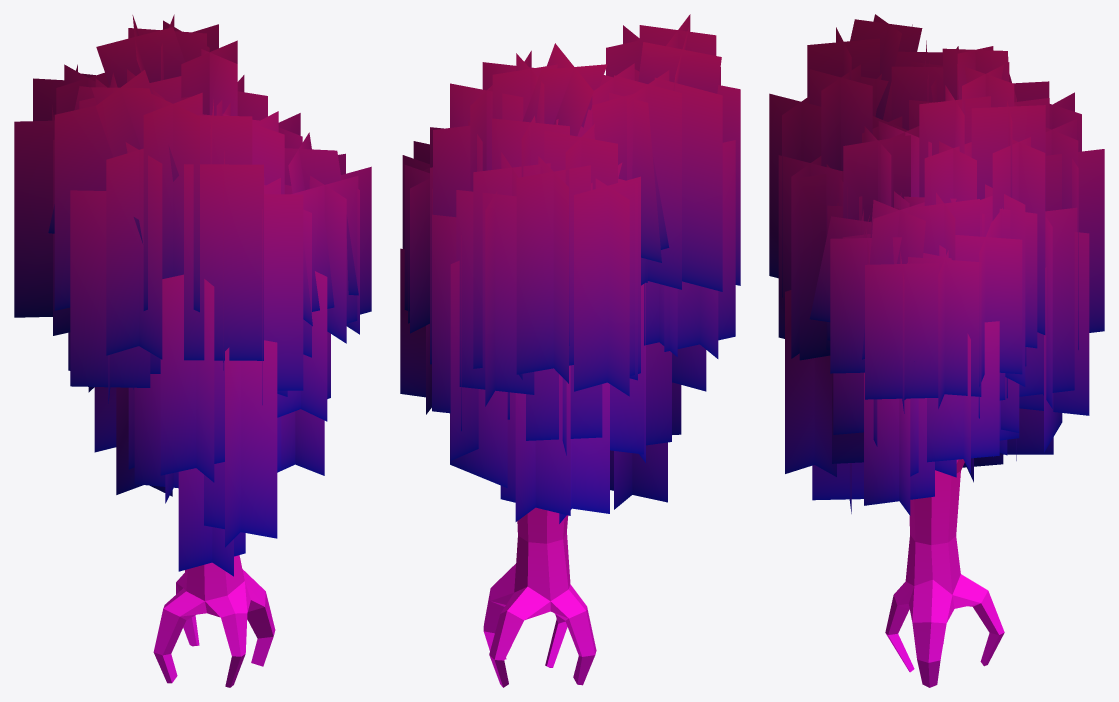
File: synty-tree-willow-medium-01.gltf
3 renders of one model, left to right at view 1: azimuth 30°, elevation 25°; view 2: azimuth 150°, elevation 25°; view 3: azimuth 270°, elevation 25°, orthographic. The views are drawn at different scales.
Visible parts, largest first — view 1: SM_Tree_Willow_Medium_01; view 2: SM_Tree_Willow_Medium_01; view 3: SM_Tree_Willow_Medium_01.
Part boxes in pixels (x1,y1,x2,y2): SM_Tree_Willow_Medium_01: [14, 14, 371, 687]; SM_Tree_Willow_Medium_01: [400, 14, 740, 687]; SM_Tree_Willow_Medium_01: [769, 14, 1104, 687].
Bounding box in the file's own units: 3.36 × 6.68 × 3.36.
